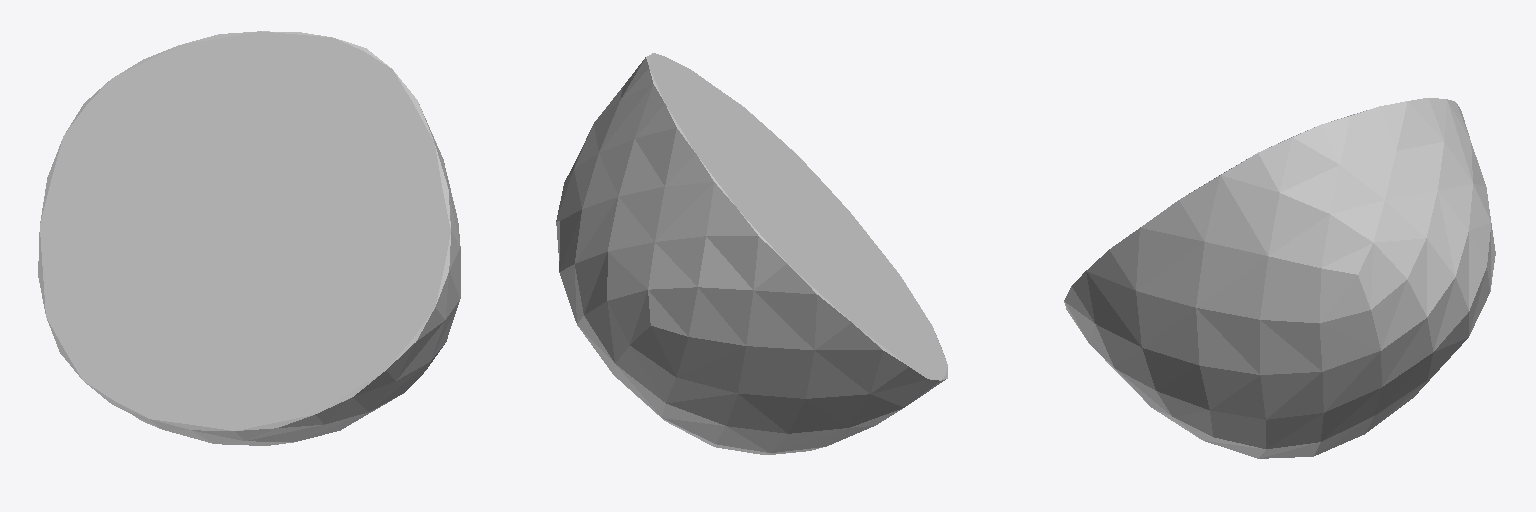
The model's file is kiwi.obj.
The picture shows the model from 3 angles: view 1: azimuth 30°, elevation 25°; view 2: azimuth 150°, elevation 25°; view 3: azimuth 270°, elevation 25°; orthographic projection.
Parts seen in each view (by area): view 1: kiwi_cut.001; view 2: kiwi_cut.001; view 3: kiwi_cut.001.
Boxes of the visible parts, box(x1,y1,x2,y2) form: kiwi_cut.001: box(38, 31, 460, 445); kiwi_cut.001: box(556, 53, 947, 454); kiwi_cut.001: box(1064, 98, 1495, 458).
Size of the model in its own units: 1.4 by 1.35 by 1.47.